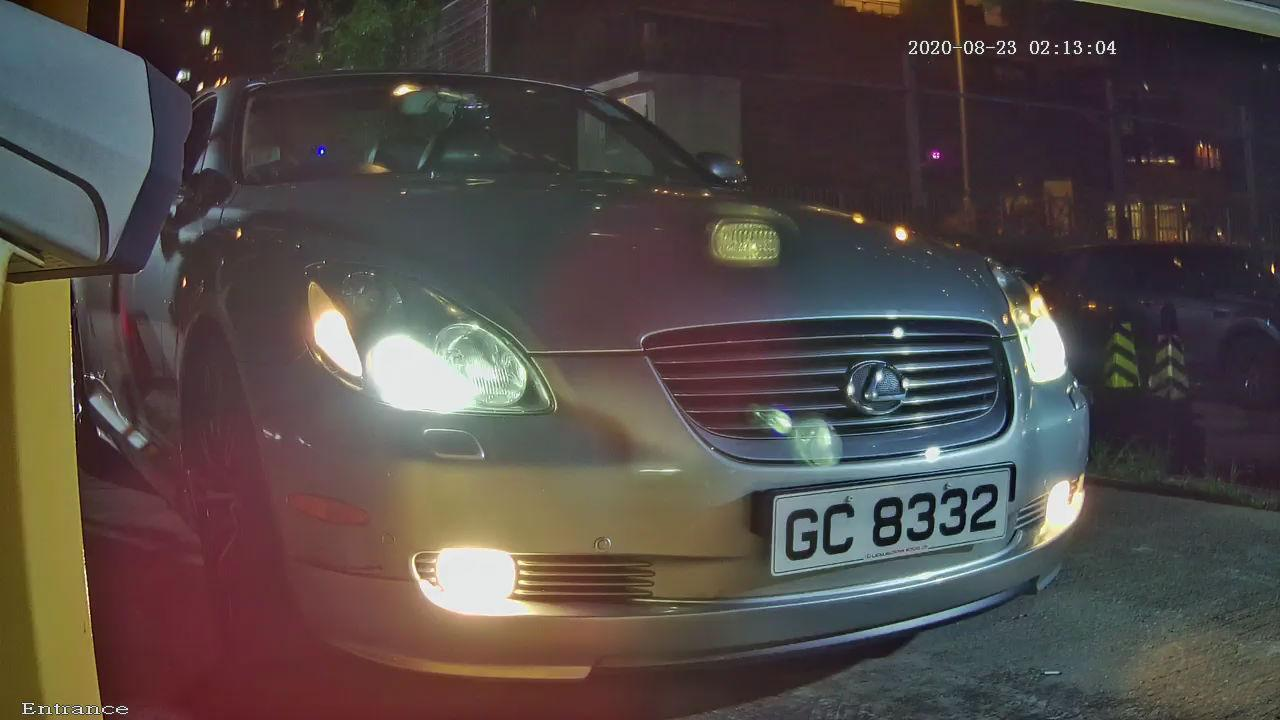Car: (18, 4, 1206, 720)
License Plate: (712, 416, 1032, 631)
